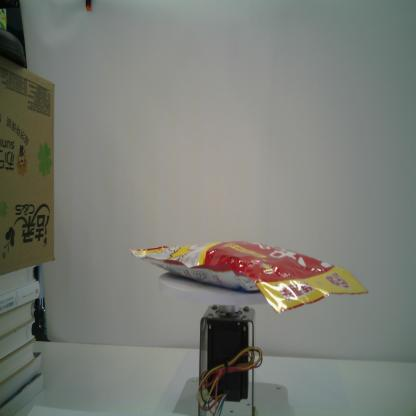Instant Drink: (128, 238, 368, 314)
